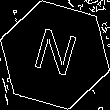N_S: (29, 25, 81, 85)
